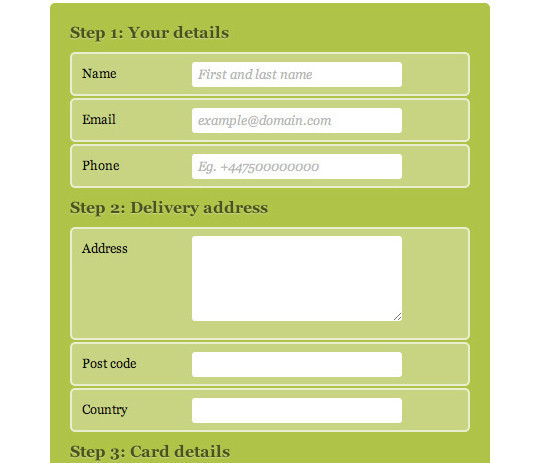_form_: (61, 47, 477, 463)
field: (189, 234, 404, 323), (188, 394, 405, 425), (187, 350, 405, 379), (189, 153, 404, 181), (191, 61, 404, 88), (188, 107, 404, 133)
field_with_label: (81, 233, 405, 325), (81, 392, 407, 426), (81, 151, 405, 184), (83, 348, 406, 381), (83, 105, 406, 135), (81, 60, 406, 89)
